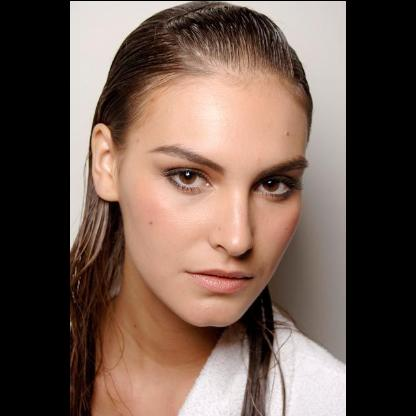Female: (93, 60, 310, 326)
